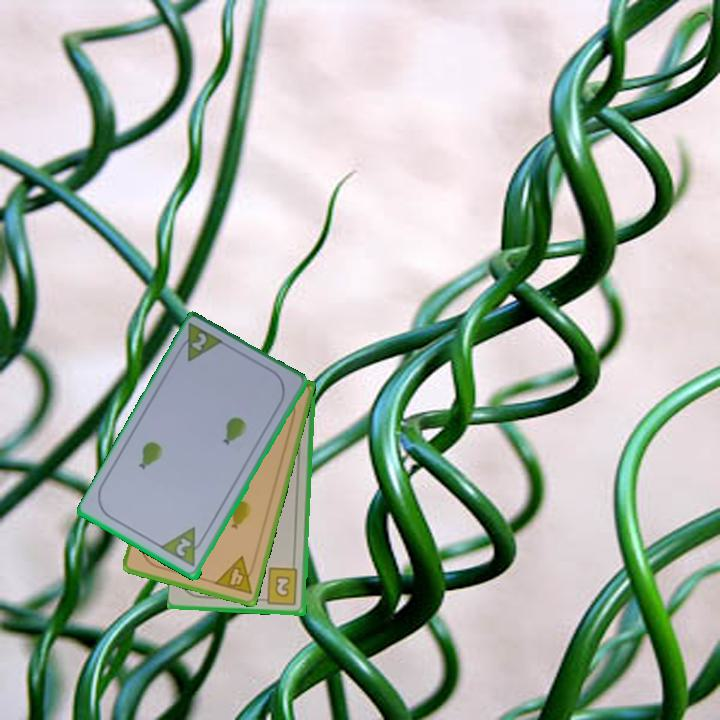2b: (258, 565, 301, 608)
2p: (173, 320, 228, 365), (158, 524, 210, 570)
4p: (211, 553, 259, 597)
